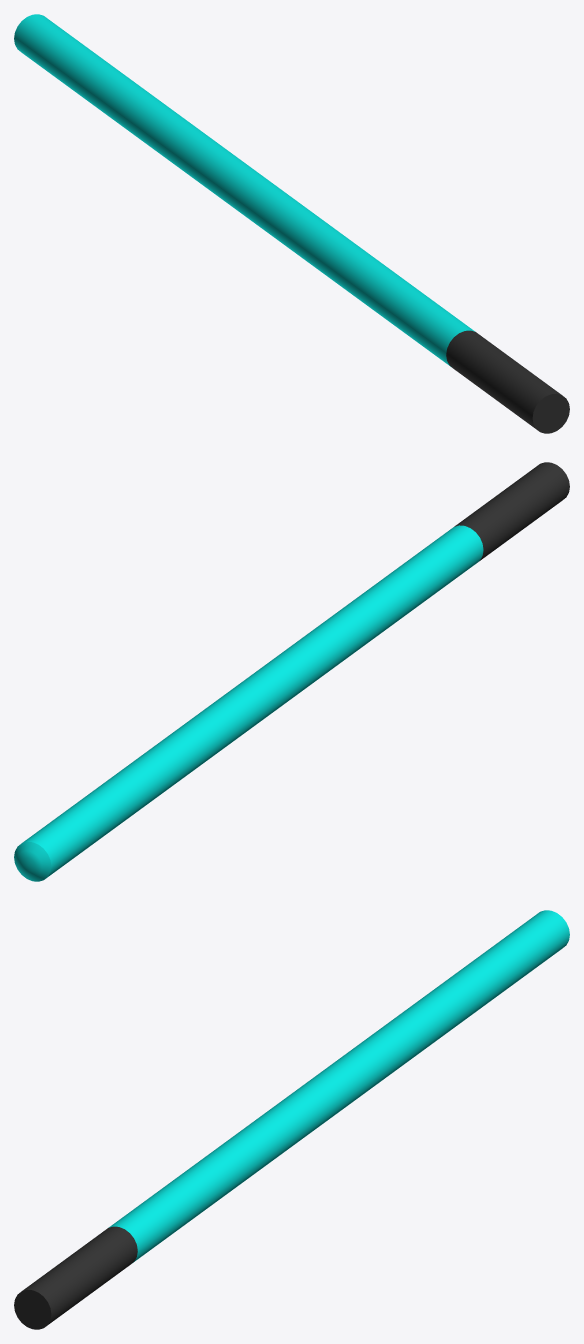
File: cylinder_saber_fixed.fbx
3 views of the same model, one above another, from view 1: azimuth 30°, elevation 25°; view 2: azimuth 150°, elevation 25°; view 3: azimuth 330°, elevation 25° (orthographic).
Parts seen in each view (by area): view 1: Saber; view 2: Saber; view 3: Saber.
Part boxes in pixels (x1,y1,x2,y2): Saber: (14,14,569,433); Saber: (14,462,569,881); Saber: (14,910,569,1329).
Bounding box in the file's own units: 5 × 5 × 121.
